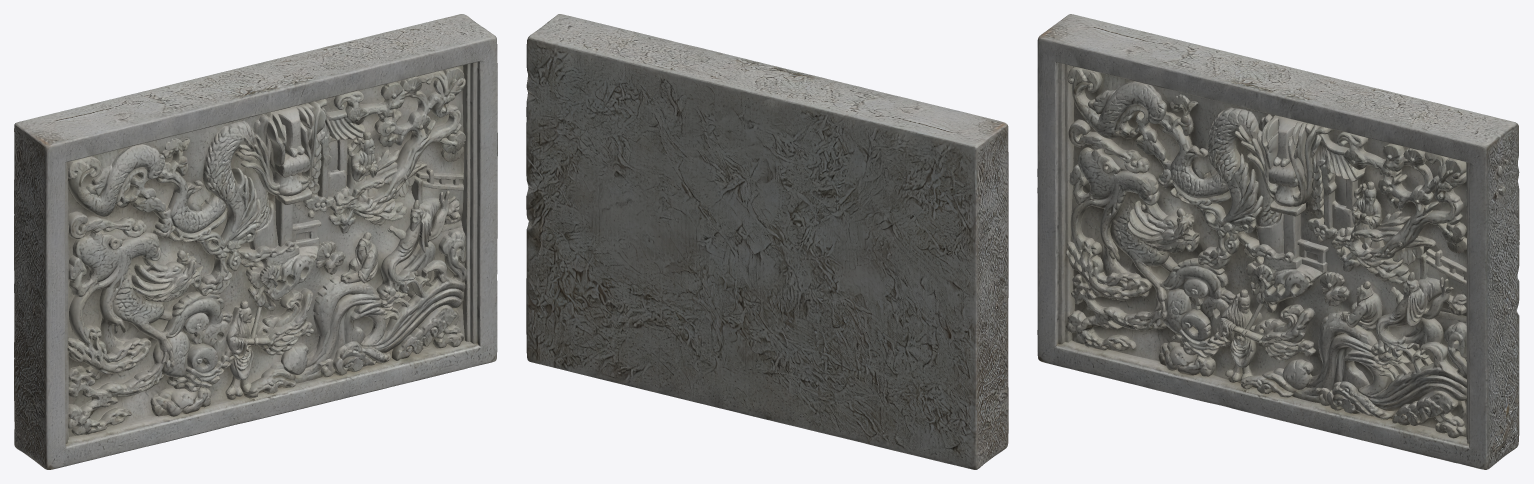
Rendered from stone-panels.glb.
The picture shows the model from 3 angles, left to right: view 1: azimuth 30°, elevation 25°; view 2: azimuth 150°, elevation 25°; view 3: azimuth 330°, elevation 25°; orthographic projection.
Visible parts, largest first — view 1: model; view 2: model; view 3: model.
Boxes of the visible parts, box(x1,y1,x2,y2) form: model: box(14, 14, 497, 469); model: box(526, 14, 1008, 469); model: box(1037, 14, 1519, 469).
Bounding box in the file's own units: 1.9 × 1.3 × 0.2784.
1 material, 1 textured.
